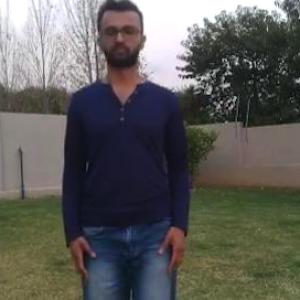follow: (68, 0, 170, 299)
